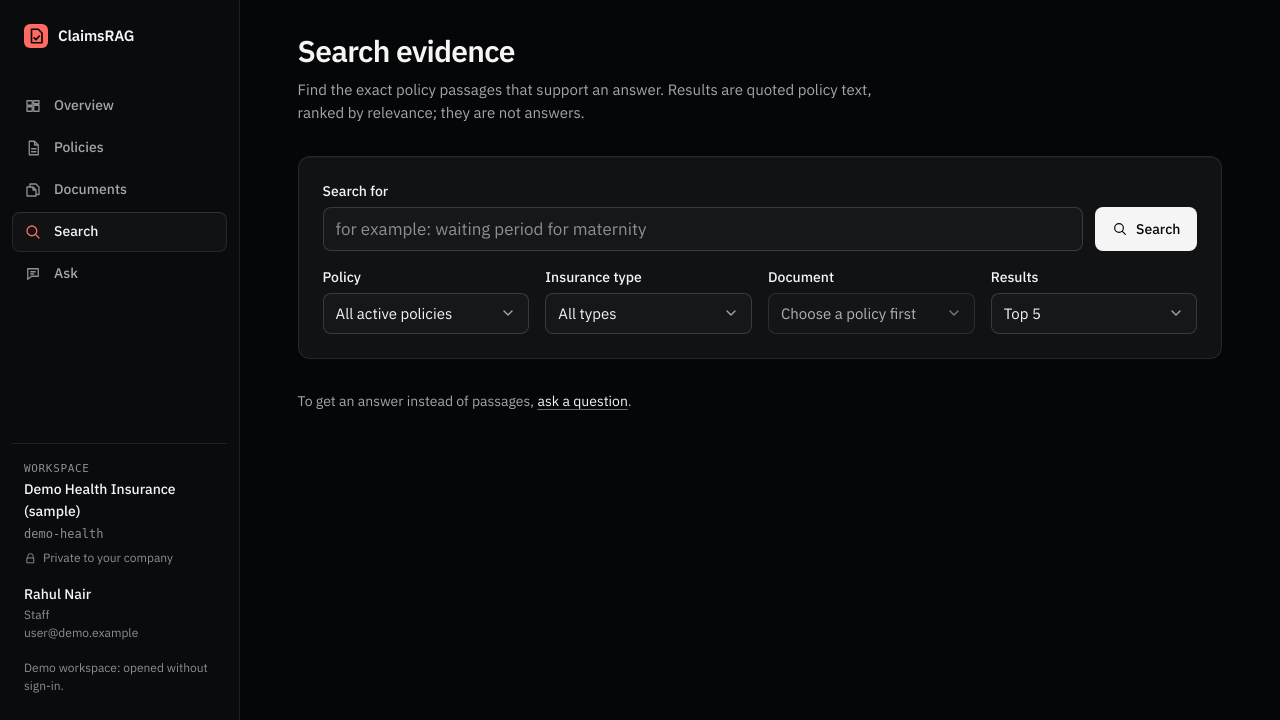
evidence search › sends only the filters the user chose, and never a company, tenant or role
Select "DH-100 Family Health Plus" in the dropdown labelled "Policy" at (426, 313), box [323,293,529,334]
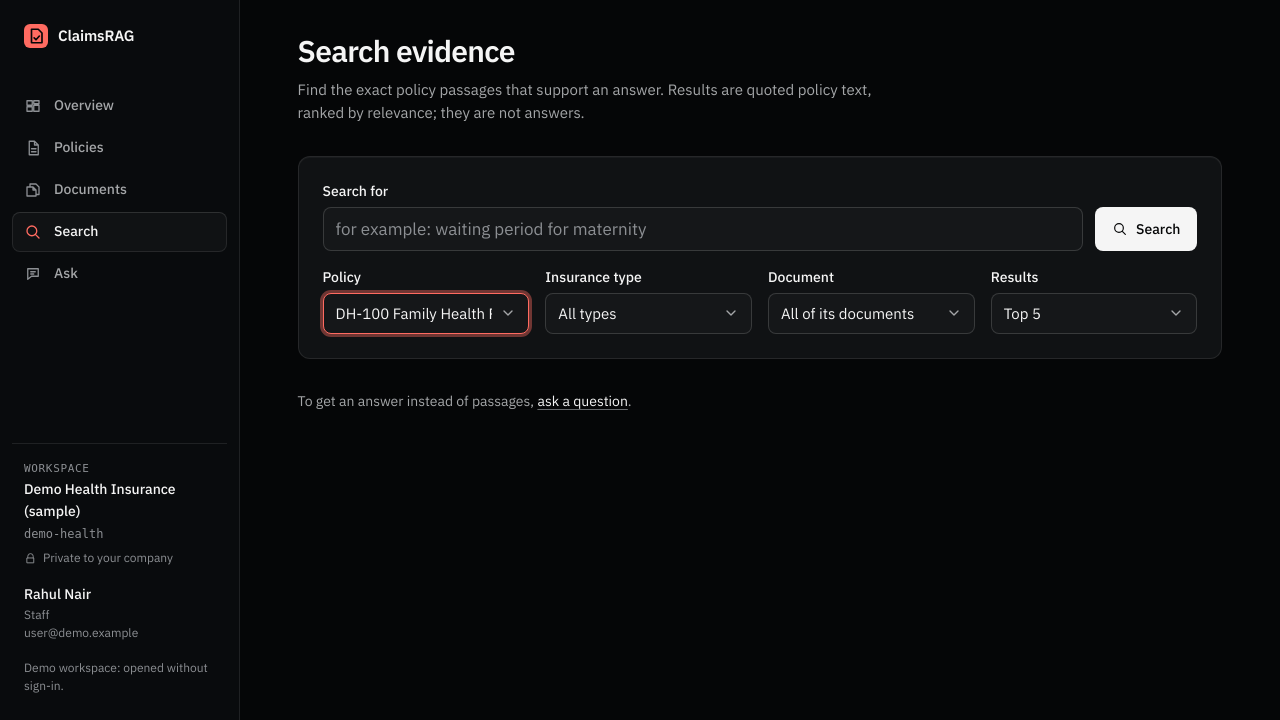
Select "Top 10" in the dropdown labelled "Results" at (1094, 313), box [991,293,1197,334]
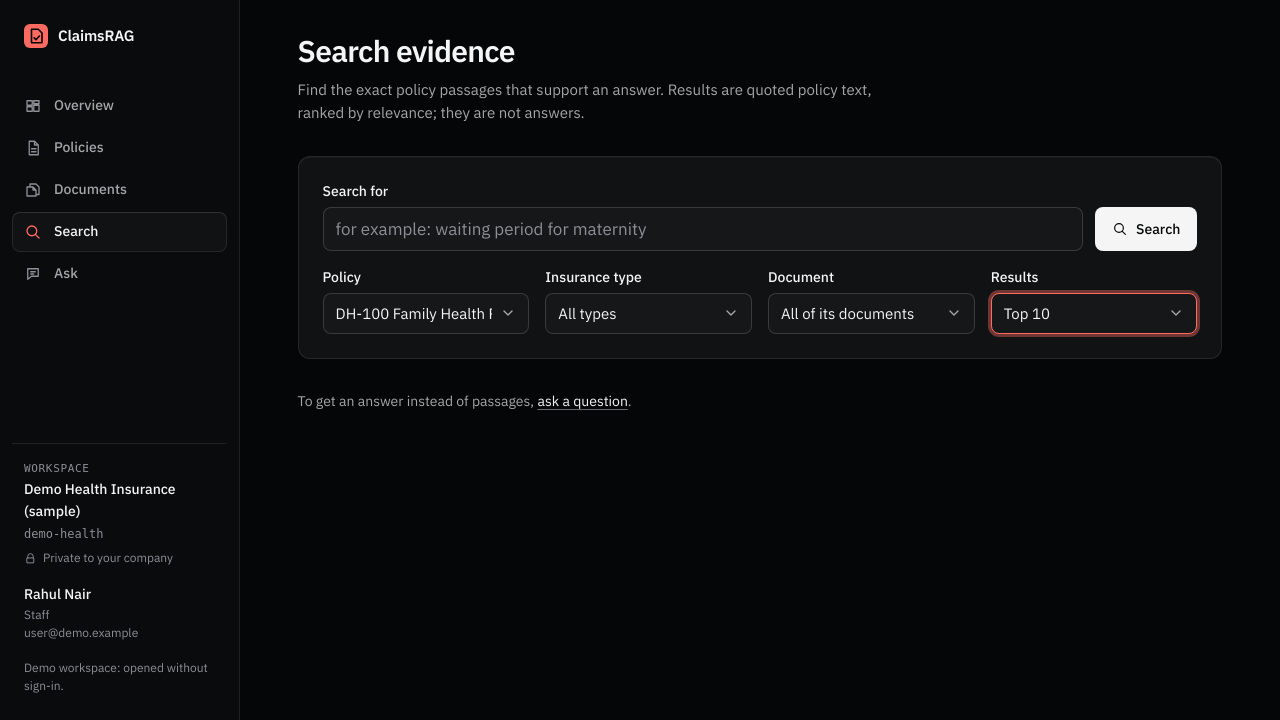
Type "ambulance" into the search field labelled "Search for" at (703, 229), box [323,207,1083,251]
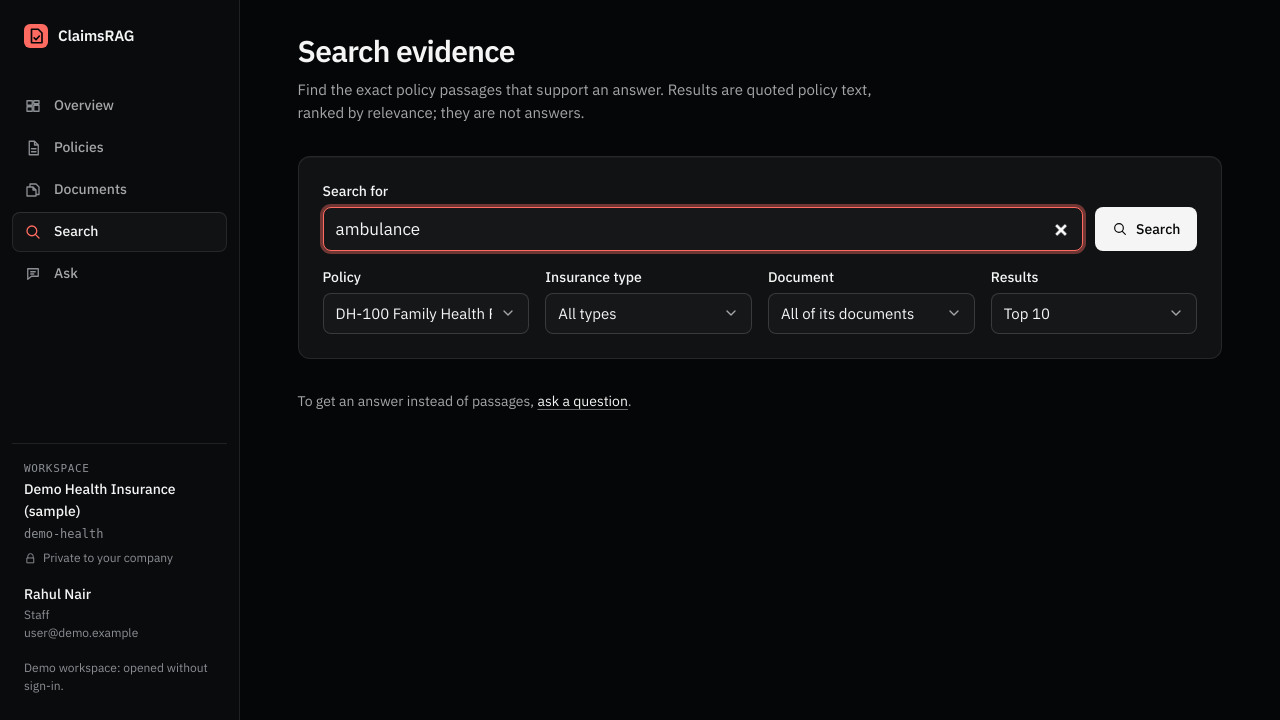
Click the button "Search" at (1146, 229), box [1095,207,1197,251]
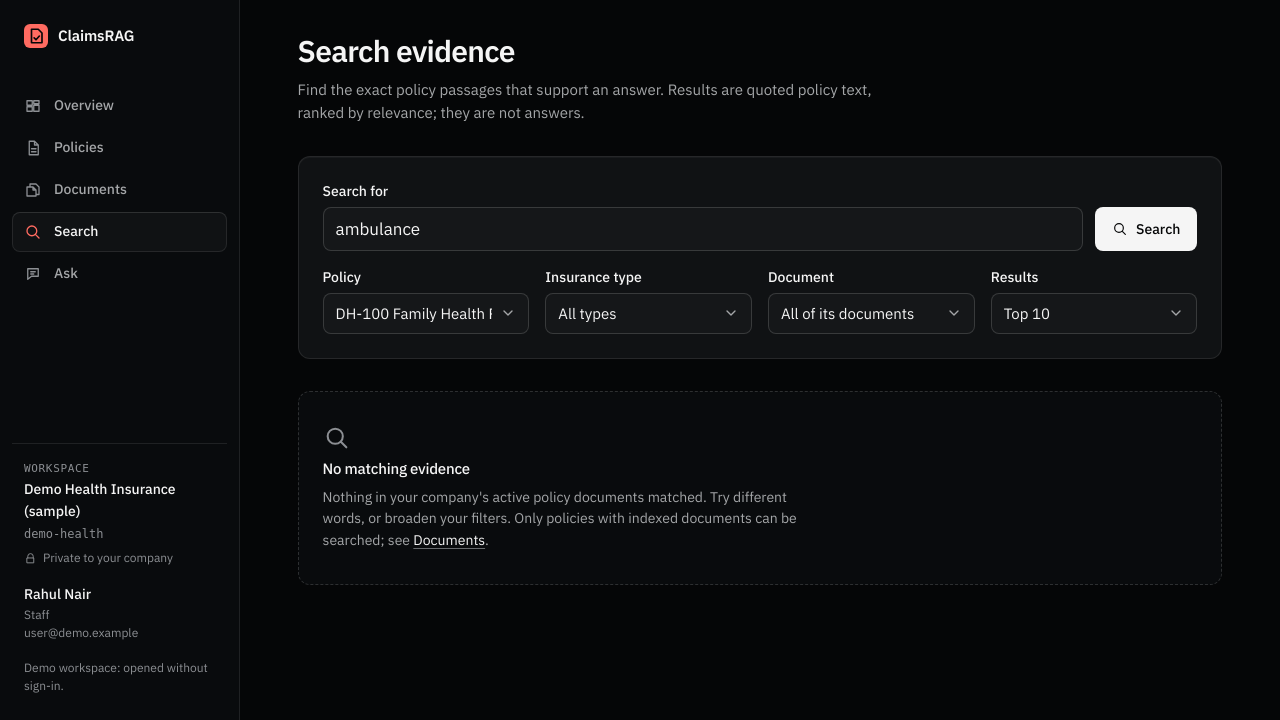
Expected: the heading "No matching evidence" is shown, [323,460,470,479]
